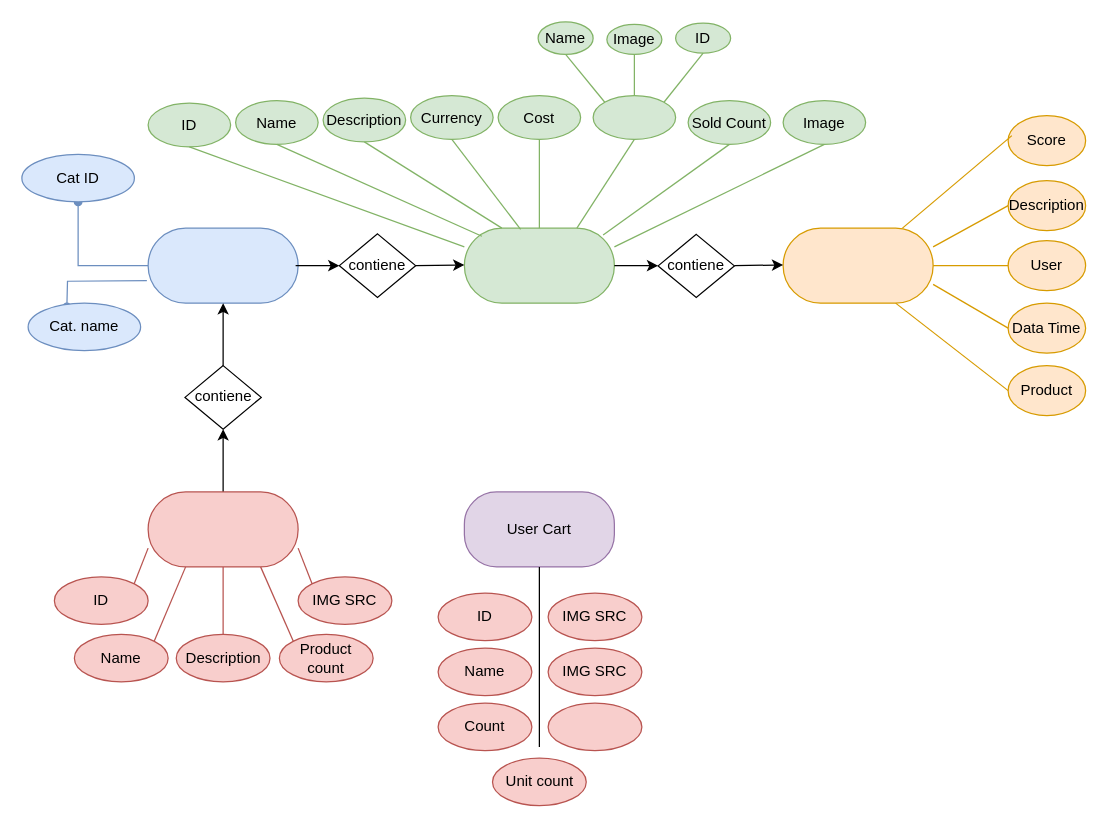
The diagram is 1108 pixels wide and 828 high, and some of its shapes have lost their labels. Each missing label, with the centre of its shape:
"Categorie's products" belongs at [222,265].
"Categories" belongs at [222,529].
"Products" belongs at [538,265].
"Products comments" belongs at [857,265].
"Related products" belongs at [634,116].
"Unit cost" belongs at [594,726].
